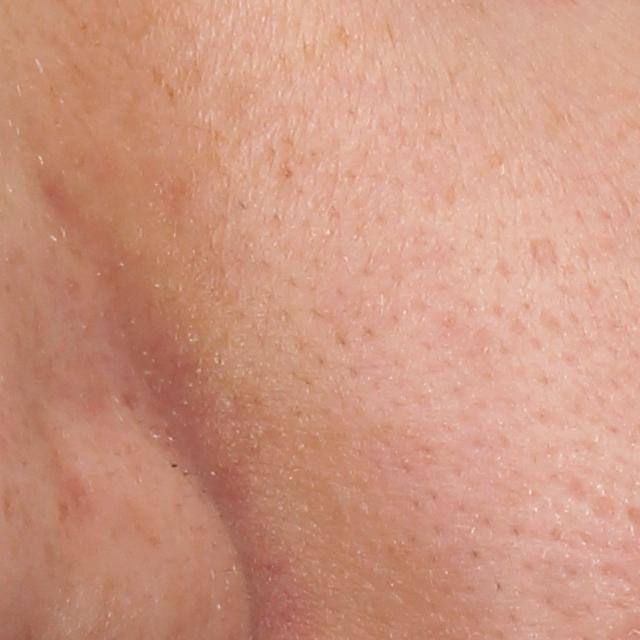atrophic_scar: (528, 237, 561, 268)
